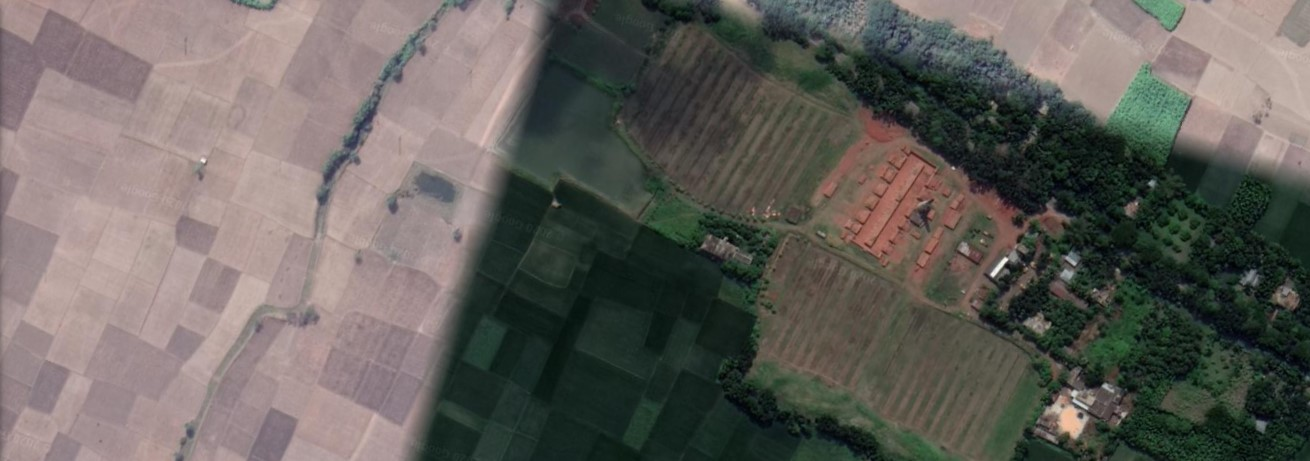kiln: (858, 158, 949, 256)
